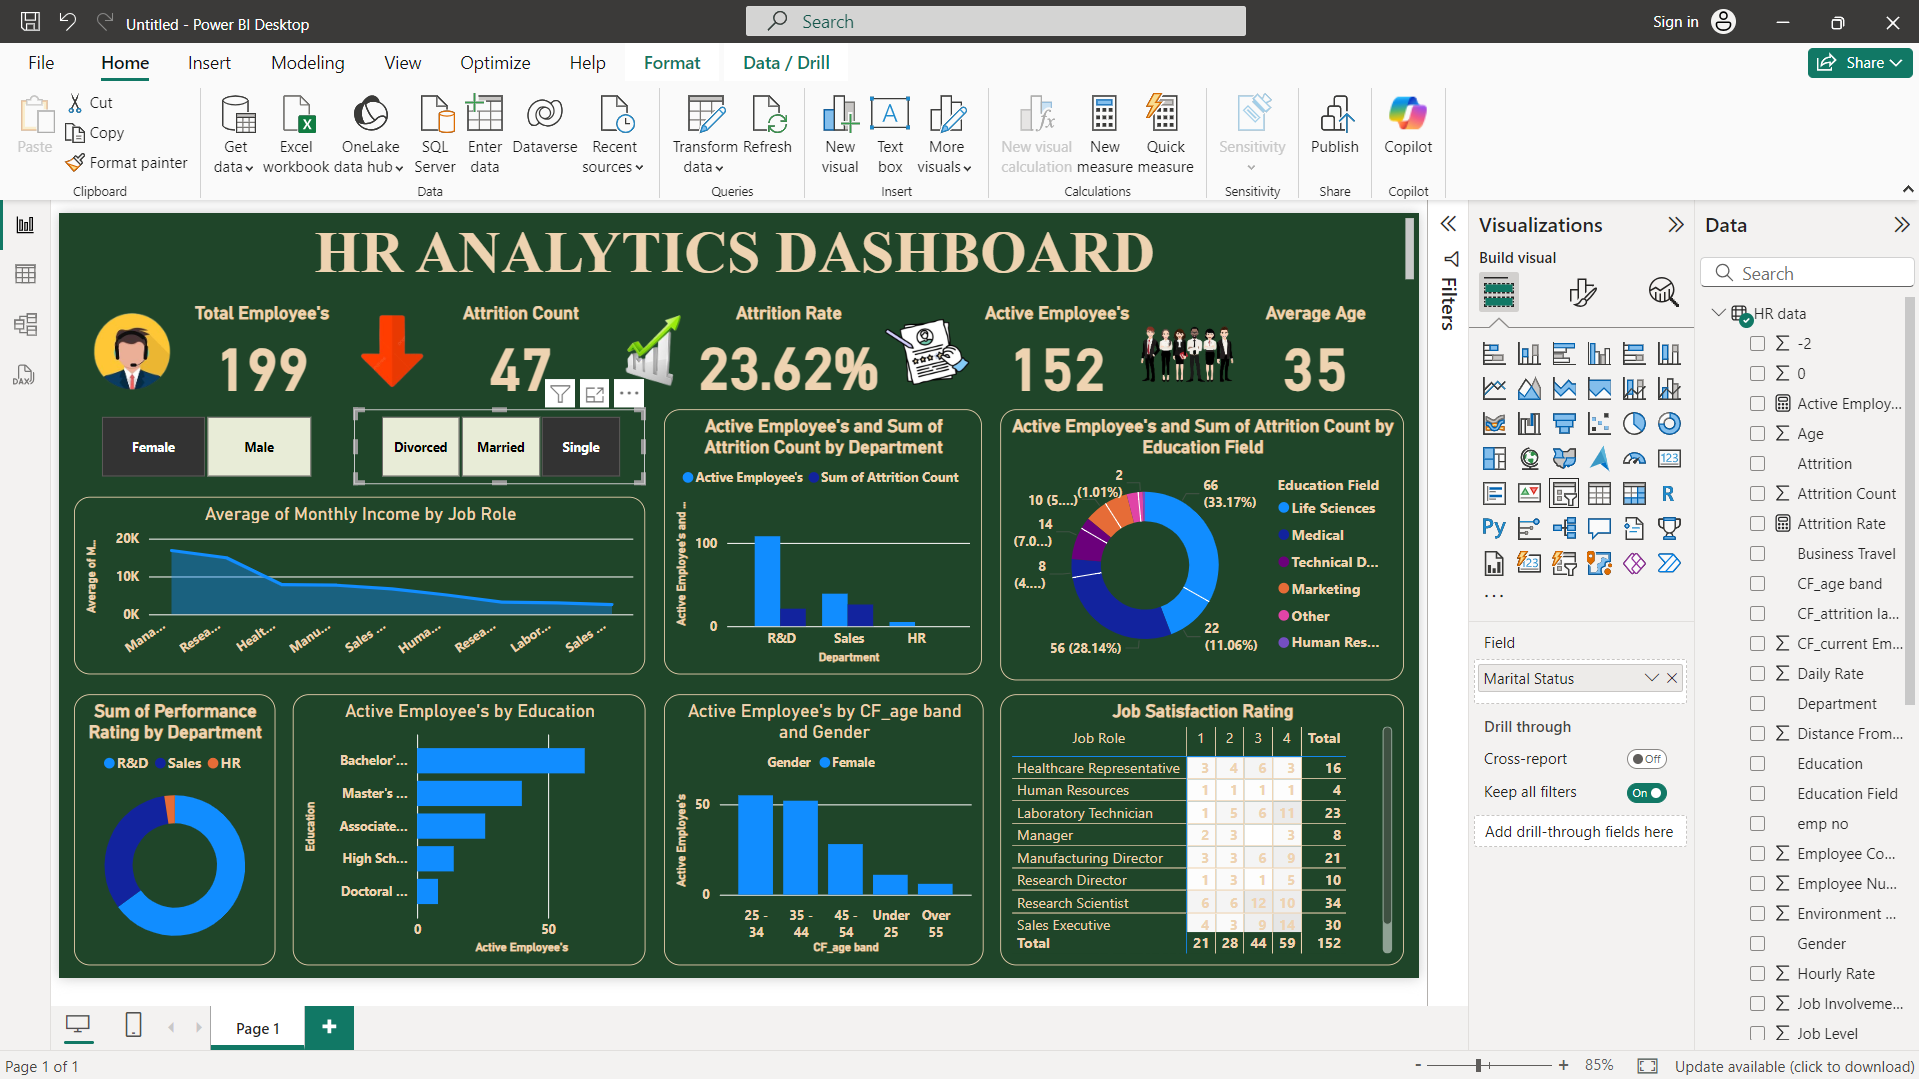

Layout of this report page (visuals, bound fields, positions):
{"tool":"powerbi","page":{"name":"Page 1","canvas":[1280,720],"ordinal":0},"visuals":[{"type":"card","title":"Total Employee''s","fields":{"Values":["Sum(HR data.Employee Count)"]},"box":[108.2,83.1,166,94.7],"z":0},{"type":"clusteredColumnChart","fields":{"Category":["HR data.Department"],"Y":["HR data.Active Employee's","Sum(HR data.Attrition Count)"]},"box":[569.5,185.2,299.1,249.7],"z":0},{"type":"card","title":"Average Age","fields":{"Values":["Avg(HR data.Age)"]},"box":[1100.5,83.1,166,94.7],"z":1000},{"type":"donutChart","fields":{"Y":["HR data.Active Employee's","Sum(HR data.Attrition Count)"],"Category":["HR data.Education Field"]},"box":[886.5,185.2,380.1,255.2],"z":1000},{"type":"card","title":"Active Employee''s","fields":{"Values":["HR data.Active Employee's"]},"box":[856.8,83.1,166,94.7],"z":2000},{"type":"columnChart","fields":{"Y":["HR data.Active Employee's"],"Category":["HR data.CF_age band"],"Series":["HR data.Gender"]},"box":[569.5,452.8,300.5,255.2],"z":2000},{"type":"card","title":"Attrition Rate","fields":{"Values":["HR data.Attrition Rate"]},"box":[595.7,83.4,183.5,94.1],"z":3000},{"type":"pivotTable","title":"Job Satisfaction Rating","fields":{"Rows":["HR data.Job Role"],"Columns":["HR data.Job Satisfaction"],"Values":["HR data.Active Employee's"]},"box":[886.5,452.8,380.1,255.2],"z":3000},{"type":"card","title":"Attrition Count","fields":{"Values":["Sum(HR data.Attrition Count)"]},"box":[351.9,83.1,166,94.7],"z":4000},{"type":"donutChart","fields":{"Y":["Sum(HR data.Performance Rating)"],"Category":["HR data.Department"]},"box":[13.7,452.8,189.4,255.2],"z":4000},{"type":"clusteredBarChart","fields":{"Category":["HR data.Education"],"Y":["HR data.Active Employee's"]},"box":[219.6,452.8,332.1,255.2],"z":5000},{"type":"areaChart","fields":{"Category":["HR data.Job Role"],"Y":["Avg(HR data.Monthly Income)"]},"box":[13.7,267.6,537.9,167.4],"z":6000},{"type":"slicer","fields":{"Values":["HR data.Gender"]},"box":[13.7,185.2,247,70],"z":7000},{"type":"slicer","fields":{"Values":["HR data.Marital Status"]},"box":[277.2,185.2,274.4,70],"z":8000},{"type":"image","box":[768,79.9,100,101.2],"z":10000},{"type":"image","box":[263,80.4,100.2,100.2],"z":11000},{"type":"image","box":[1011.6,80.4,100.2,100.2],"z":12000},{"type":"image","box":[506.7,80.4,100.2,100.2],"z":13000},{"type":"image","box":[19.2,80.4,100.2,100.2],"z":14000},{"type":"textbox","box":[0,0,1280.3,78.2],"z":15000}]}

Visuals, with their boxes on the page's 1280x720 design canvas (x1, y1, x2, y2). These are canvas units, not pixel positions in the 1919x1079 screenshot, which may show the page scaled, cropped or inside an application window:
"Total Employee''s" card: 108, 83, 274, 178
clusteredColumnChart - HR data.Department x HR data.Active Employee's: 570, 185, 869, 435
"Average Age" card: 1100, 83, 1266, 178
donutChart - HR data.Active Employee's x Sum(HR data.Attrition Count): 886, 185, 1267, 440
"Active Employee''s" card: 857, 83, 1023, 178
columnChart - HR data.Active Employee's x HR data.CF_age band: 570, 453, 870, 708
"Attrition Rate" card: 596, 83, 779, 178
"Job Satisfaction Rating" pivotTable: 886, 453, 1267, 708
"Attrition Count" card: 352, 83, 518, 178
donutChart - Sum(HR data.Performance Rating) x HR data.Department: 14, 453, 203, 708
clusteredBarChart - HR data.Education x HR data.Active Employee's: 220, 453, 552, 708
areaChart - HR data.Job Role x Avg(HR data.Monthly Income): 14, 268, 552, 435
slicer - HR data.Gender: 14, 185, 261, 255
slicer - HR data.Marital Status: 277, 185, 552, 255
image: 768, 80, 868, 181
image: 263, 80, 363, 181
image: 1012, 80, 1112, 181
image: 507, 80, 607, 181
image: 19, 80, 119, 181
textbox: 0, 0, 1280, 78
